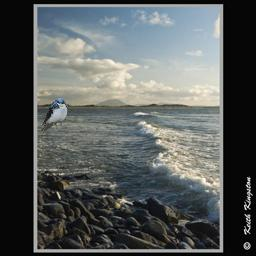Swallow: (40, 97, 68, 132)
